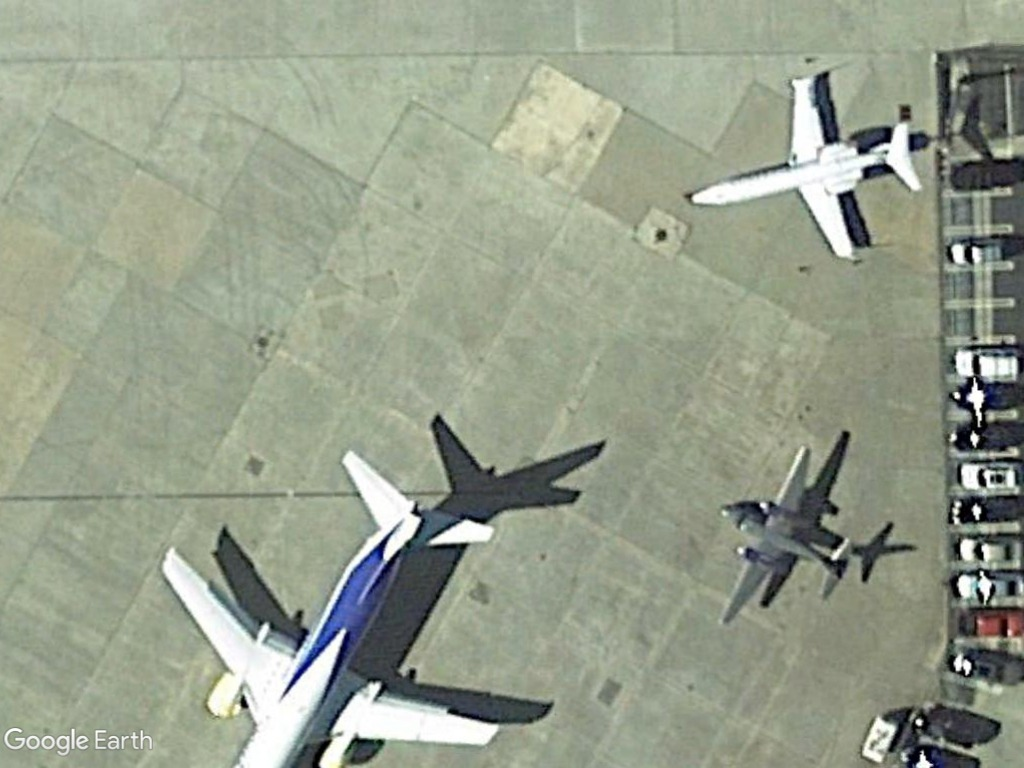chartered: (669, 71, 936, 267)
propeller: (710, 442, 863, 630)
